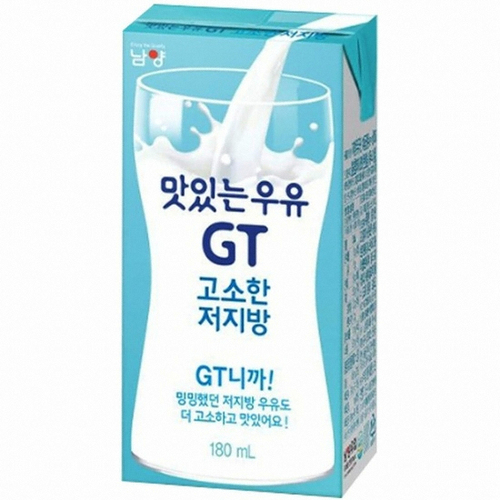milk: (121, 4, 379, 500)
